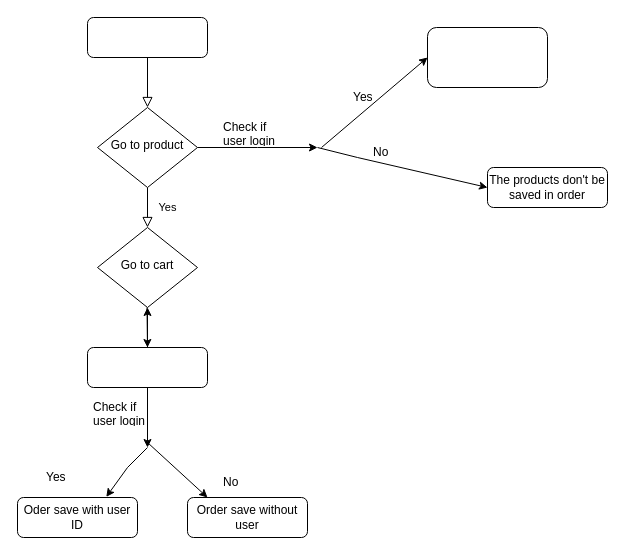
Image size: 625x555. Some labels were removed from this diagram. Each missing label, with the centre of its shape:
"Checkout" belongs at pixel 147 367.
"Customer access to the website" belongs at pixel 147 37.
"User can save products" belongs at pixel 487 57.
